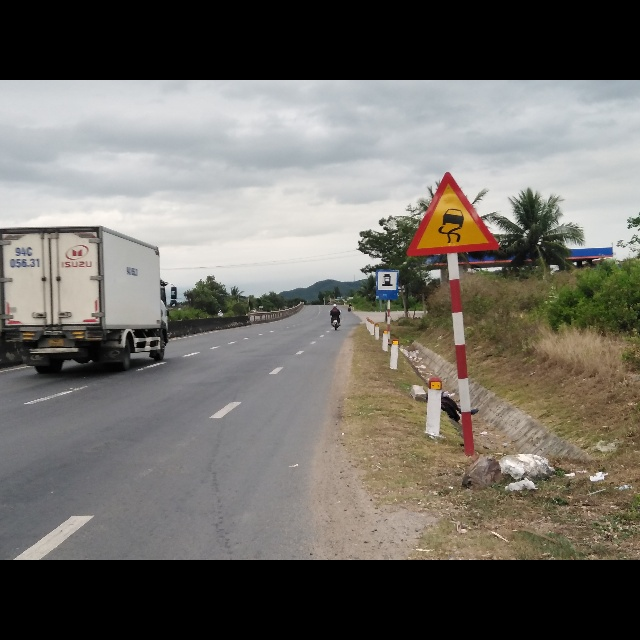Đường trơn trượt: (402, 170, 501, 258)
